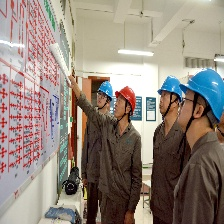helmet: (186, 68, 224, 105), (158, 76, 182, 95), (118, 85, 136, 108), (98, 80, 114, 99)
no-vest: (107, 119, 139, 220), (155, 122, 181, 213)
person: (177, 65, 224, 224), (148, 73, 185, 224), (112, 83, 143, 224)
